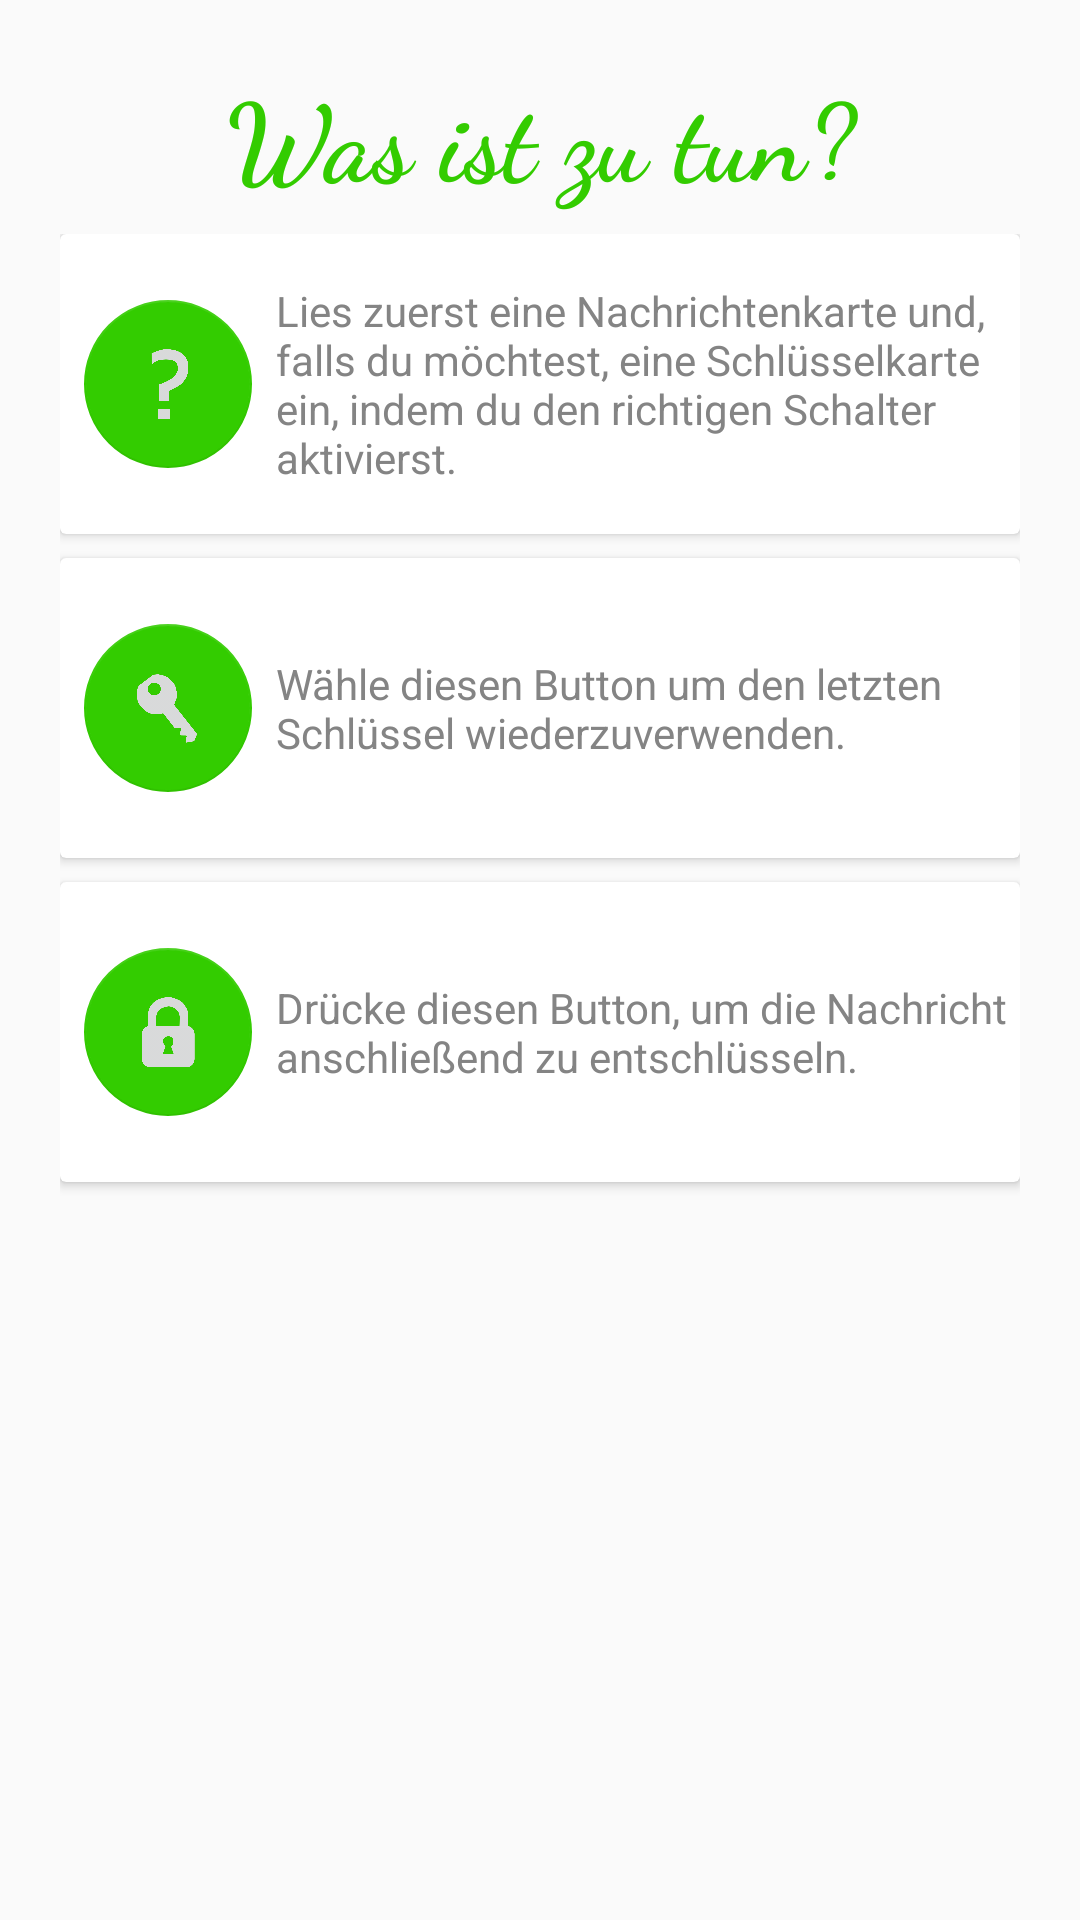

Icons on this 1080x1920 Android screen, each with the point to tap as (x=x, y=y):
help: (x=168, y=384)
key: (x=168, y=708)
lock: (x=168, y=1032)
